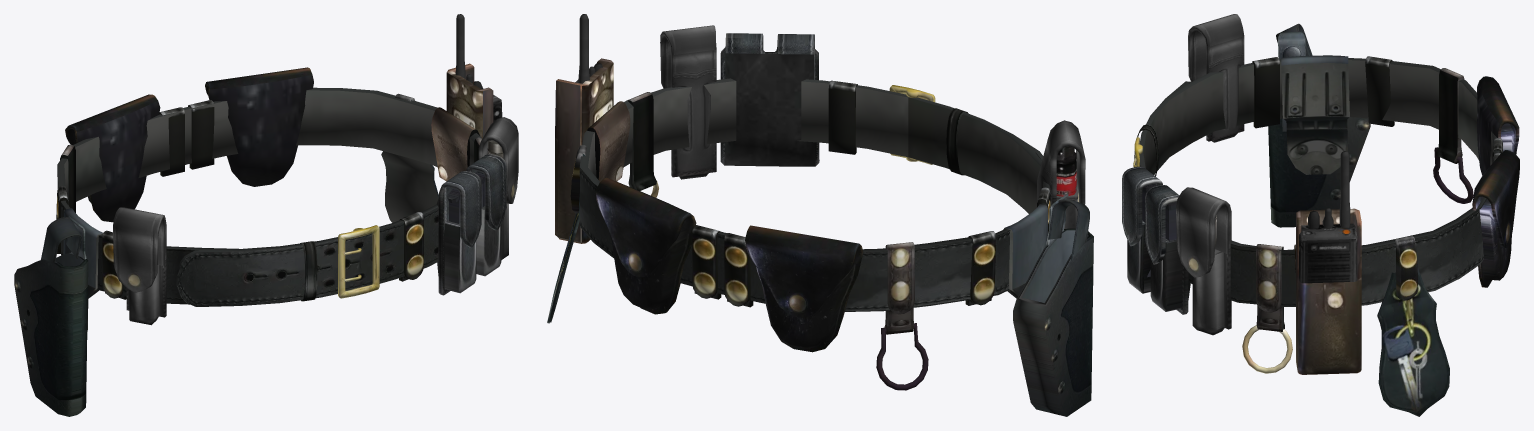
The model's file is police-belt-compressed.glb.
3 views of the same model, side by side, from view 1: azimuth 30°, elevation 25°; view 2: azimuth 150°, elevation 25°; view 3: azimuth 270°, elevation 25° (orthographic). The views are drawn at different scales.
Parts seen in each view (by area): view 1: Object_3, Object_4, Object_5, Object_8, Object_2, Object_7, Object_6; view 2: Object_3, Object_4, Object_5, Object_8, Object_2, Object_7, Object_6; view 3: Object_3, Object_5, Object_2, Object_7, Object_8, Object_4, Object_6.
Boxes of the visible parts, left/top/right/bottom form: Object_3: left=56, top=87, right=482, bottom=306; Object_4: left=65, top=67, right=313, bottom=222; Object_5: left=14, top=208, right=102, bottom=416; Object_8: left=437, top=154, right=506, bottom=295; Object_2: left=113, top=117, right=518, bottom=325; Object_7: left=431, top=63, right=493, bottom=181; Object_6: left=455, top=14, right=502, bottom=121; Object_3: left=547, top=78, right=1050, bottom=390; Object_4: left=595, top=177, right=863, bottom=352; Object_5: left=1003, top=194, right=1093, bottom=416; Object_8: left=720, top=33, right=819, bottom=166; Object_2: left=660, top=25, right=1085, bottom=228; Object_7: left=555, top=58, right=630, bottom=243; Object_6: left=575, top=14, right=602, bottom=83; Object_3: left=1133, top=56, right=1502, bottom=416; Object_5: left=1268, top=23, right=1370, bottom=227; Object_2: left=1176, top=14, right=1244, bottom=335; Object_7: left=1294, top=208, right=1361, bottom=374; Object_8: left=1122, top=166, right=1190, bottom=314; Object_4: left=1472, top=76, right=1519, bottom=287; Object_6: left=1299, top=151, right=1357, bottom=283.
Bounding box in the file's own units: 0.4242 × 0.2434 × 0.3075.
Materials: 7 (7 with a texture image).
